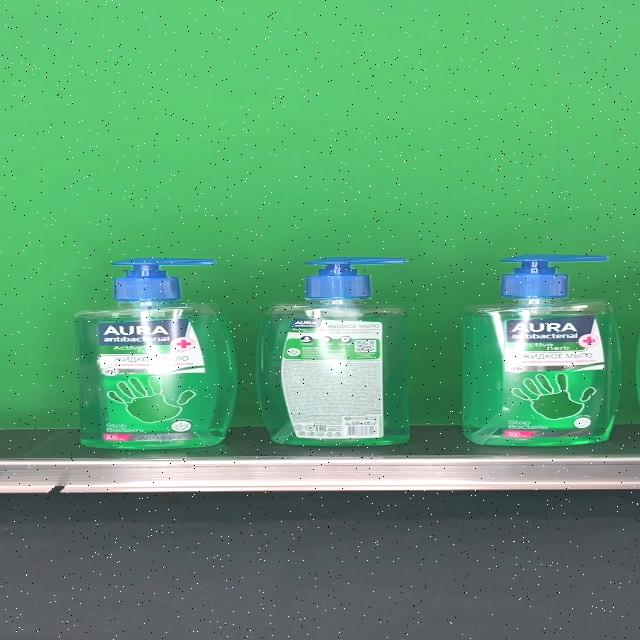Bottle: (74, 258, 237, 450), (462, 255, 622, 447), (255, 257, 411, 446)
Cap: (498, 255, 608, 298), (111, 258, 215, 301), (303, 257, 406, 299)
